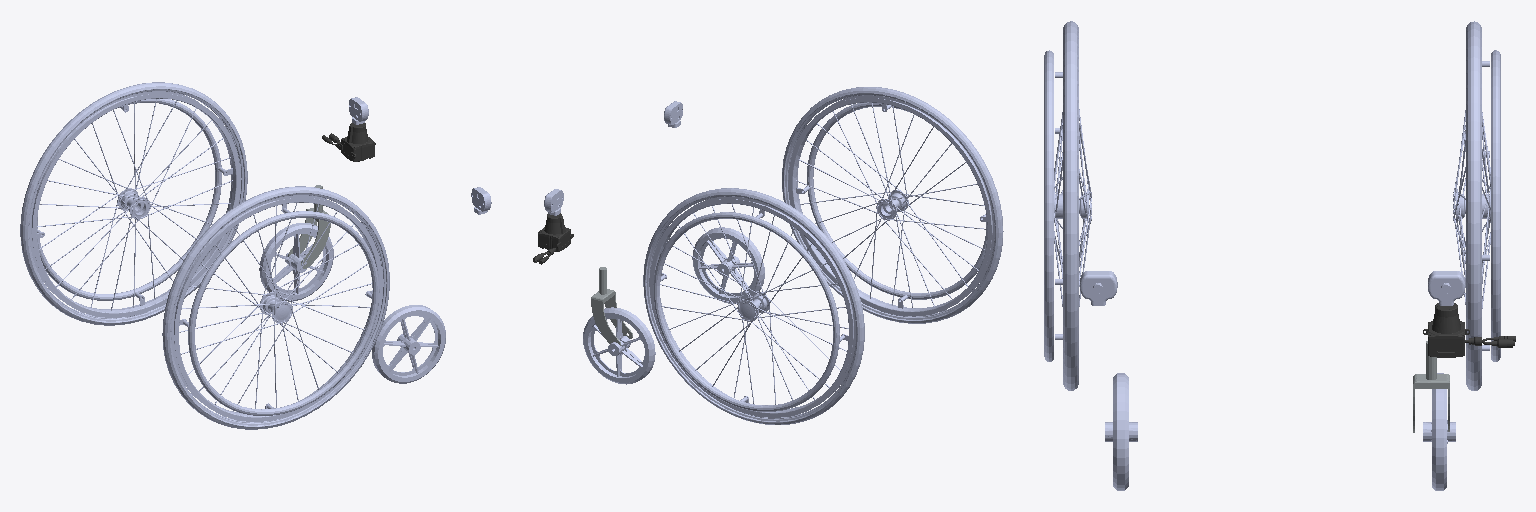
robot.urdf — wheelchair_urdf_files:
<?xml version="1.0" encoding="utf-8"?>
<!-- This URDF was automatically created by SolidWorks to URDF Exporter! Originally created by [author] ([email redacted]) 
     Commit Version: 1.6.0-4-g7f85cfe  Build Version: 1.6.7995.38578
     For more information, please see http://wiki.ros.org/sw_urdf_exporter -->
<robot
  name="wheelchair_urdf_files">

   <!-- Base footprint link -->
  <link name="base_footprint"/>
  <!-- Base link -->
  <link name="base_link">
  </link>
  <joint name="base_link_link_joint" type="fixed">
    <parent link="base_footprint"/>
    <child link="base_link"/>
    <origin xyz="0 0 0.3"/>
  </joint>

  <link
    name="wheelchair_frame">
    <inertial>
      <origin
        xyz="1.1817E-05 0.40859 0.020281"
        rpy="0 0 -1.570796" />
      <mass
        value="10.789" />
      <inertia
        ixx="0.27943"
        ixy="-0.00070217"
        ixz="0.00021066"
        iyy="0.19234"
        iyz="-0.057278"
        izz="0.17355" />
    </inertial>
    <visual>
      <origin
        xyz="0 0 0"
        rpy="0 0 -1.570796" />
      <geometry>
        <mesh
          filename="package://robot_simulator/robots/wheelchair/meshes/wheelchair_frame_base_link.STL" />
      </geometry>
      <material
        name="">
        <color
          rgba="0.79216 0.81961 0.93333 1" />
      </material>
    </visual>
    <collision>
      <origin
        xyz="0 0 0"
        rpy="0 0 -1.570796" />
      <geometry>
        <mesh
          filename="package://robot_simulator/robots/wheelchair/meshes/wheelchair_frame_base_link.STL" />
      </geometry>
    </collision>
  </link>
  <joint name="base_visual_joint" type="fixed">
    <parent link="base_link"/>
    <child link="wheelchair_frame"/>
    <origin xyz="0.225 0 -0.3"/>
  </joint>

  <link
    name="wheel_r_link">
    <inertial>
      <origin
        xyz="0.0441080860241803 8.88178419700125E-16 -1.11022302462516E-16"
        rpy="0 1.570796 0" />
      <mass
        value="1.11785636496393" />
      <inertia
        ixx="0.078372627877303"
        ixy="-1.77125185792784E-18"
        ixz="-1.12761256085879E-19"
        iyy="0.039239966752717"
        iyz="-9.06282829751847E-18"
        izz="0.0392393599948009" />
    </inertial>
    <visual>
      <origin
        xyz="0 0 0"
        rpy="0 1.570796 0" />
      <geometry>
        <mesh
          filename="package://robot_simulator/robots/wheelchair/meshes/wheel_r_link.STL" />
      </geometry>
      <material
        name="">
        <color
          rgba="0.792156862745098 0.819607843137255 0.933333333333333 1" />
      </material>
    </visual>
    <collision>
      <origin
        xyz="0 0 0"
        rpy="0 1.570796 0" />
      <geometry>
        <mesh
          filename="package://robot_simulator/robots/wheelchair/meshes/wheel_r_link.STL" />
      </geometry>
    </collision>
  </link>
  <joint
    name="wheel_r_joint"
    type="continuous">
    <origin
      xyz="0 -0.29262 0"
      rpy="-1.5707963267949 0 0" />
    <parent
      link="base_link" />
    <child
      link="wheel_r_link" />
    <axis
      xyz="0 0 1" />
  </joint>
  <link
    name="wheel_l_link">
    <inertial>
      <origin
        xyz="0.0441080860241805 6.93889390390723E-16 -3.88578058618805E-16"
        rpy="0 -1.570796 0" />
      <mass
        value="1.11785636496392" />
      <inertia
        ixx="0.0783726278773029"
        ixy="4.91793463251921E-18"
        ixz="-7.53745916717816E-18"
        iyy="0.0392399667527169"
        iyz="-5.20417042793042E-18"
        izz="0.0392393599948008" />
    </inertial>
    <visual>
      <origin
        xyz="0 0 0"
        rpy="0 -1.570796 0" />
      <geometry>
        <mesh
          filename="package://robot_simulator/robots/wheelchair/meshes/wheel_l_link.STL" />
      </geometry>
      <material
        name="">
        <color
          rgba="0.792156862745098 0.819607843137255 0.933333333333333 1" />
      </material>
    </visual>
    <collision>
      <origin
        xyz="0 0 0"
        rpy="0 1.5707963267949 0" />
      <geometry>
        <mesh
          filename="package://robot_simulator/robots/wheelchair/meshes/wheel_l_link.STL" />
      </geometry>
    </collision>
  </link>
  <joint
    name="wheel_l_joint"
    type="continuous">
    <origin
      xyz="0 0.29262 0"
      rpy="-1.5707963267949 0 0" />
    <parent
      link="base_link" />
    <child
      link="wheel_l_link" />
    <axis
      xyz="0 0 1" />
  </joint>
  <link
    name="caster_r_link">
    <inertial>
      <origin
        xyz="-3.12130959967405E-09 0.104209264665427 -0.00638474453380211"
        rpy="0 0 0" />
      <mass
        value="0.0641233529446961" />
      <inertia
        ixx="0.000140602918586523"
        ixy="-5.25202674672285E-12"
        ixz="-1.35152351145188E-11"
        iyy="4.09045485721611E-05"
        iyz="-3.06339546822628E-05"
        izz="0.000150905412643739" />
    </inertial>
    <visual>
      <origin
        xyz="0 0 0"
        rpy="0 0 0" />
      <geometry>
        <mesh
          filename="package://robot_simulator/robots/wheelchair/meshes/caster_r_link.STL" />
      </geometry>
      <material
        name="">
        <color
          rgba="0.63921568627451 0.666666666666667 0.67843137254902 1" />
      </material>
    </visual>
    <collision>
      <origin
        xyz="0 0 0"
        rpy="0 0 0" />
      <geometry>
        <mesh
          filename="package://robot_simulator/robots/wheelchair/meshes/caster_r_link.STL" />
      </geometry>
    </collision>
  </link>
  <joint
    name="caster_r_joint"
    type="continuous">
    <origin
      xyz="0.45 -0.258 -0.21775"
      rpy="1.5707963267949 0 1.5707963267949" />
    <parent
      link="base_link" />
    <child
      link="caster_r_link" />
    <axis
      xyz="0 0 1" />
  </joint>
  <link
    name="caster_wheel_r_link">
    <inertial>
      <origin
        xyz="3.68871599931708E-13 0 -2.77555756156289E-17"
        rpy="0 0 0" />
      <mass
        value="0.290948648858615" />
      <inertia
        ixx="0.00171792777524043"
        ixy="-3.23807165023355E-19"
        ixz="8.43924817788307E-20"
        iyy="0.000880037934920853"
        iyz="0"
        izz="0.000880037934920853" />
    </inertial>
    <visual>
      <origin
        xyz="0 0 0"
        rpy="0 0 0" />
      <geometry>
        <mesh
          filename="package://robot_simulator/robots/wheelchair/meshes/caster_wheel_r_link.STL" />
      </geometry>
      <material
        name="">
        <color
          rgba="0.796078431372549 0.823529411764706 0.937254901960784 1" />
      </material>
    </visual>
    <collision>
      <origin
        xyz="0 0 0"
        rpy="0 0 0" />
      <geometry>
        <mesh
          filename="package://robot_simulator/robots/wheelchair/meshes/caster_wheel_r_link.STL" />
      </geometry>
    </collision>
  </link>
  <joint
    name="caster_wheel_r_joint"
    type="continuous">
    <origin
      xyz="0.0127 0 -0.0508"
      rpy="-1.3026 0 0" />
    <parent
      link="caster_r_link" />
    <child
      link="caster_wheel_r_link" />
    <axis
      xyz="0 1 0" />
  </joint>
  <link
    name="caster_l_link">
    <inertial>
      <origin
        xyz="-3.12130948865175E-09 0.104209264665427 -0.00638474453380217"
        rpy="0 0 0" />
      <mass
        value="0.0641233529446964" />
      <inertia
        ixx="0.000140602918586524"
        ixy="-5.25202644245156E-12"
        ixz="-1.35152350658555E-11"
        iyy="4.09045485721617E-05"
        iyz="-3.06339546822628E-05"
        izz="0.00015090541264374" />
    </inertial>
    <visual>
      <origin
        xyz="0 0 0"
        rpy="0 0 0" />
      <geometry>
        <mesh
          filename="package://robot_simulator/robots/wheelchair/meshes/caster_l_link.STL" />
      </geometry>
      <material
        name="">
        <color
          rgba="0.63921568627451 0.666666666666667 0.67843137254902 1" />
      </material>
    </visual>
    <collision>
      <origin
        xyz="0 0 0"
        rpy="0 0 0" />
      <geometry>
        <mesh
          filename="package://robot_simulator/robots/wheelchair/meshes/caster_l_link.STL" />
      </geometry>
    </collision>
  </link>
  <joint
    name="caster_l_joint"
    type="continuous">
    <origin
      xyz="0.45 0.258 -0.21775"
      rpy="1.5707963267949 0 1.5707963267949" />
    <parent
      link="base_link" />
    <child
      link="caster_l_link" />
    <axis
      xyz="0 0 1" />
  </joint>
  <link
    name="caster_wheel_l_link">
    <inertial>
      <origin
        xyz="3.6892711108294E-13 2.77555756156289E-17 0"
        rpy="0 0 0" />
      <mass
        value="0.290948648858614" />
      <inertia
        ixx="0.00171792777524043"
        ixy="-6.31694569321117E-20"
        ixz="-4.59796098378092E-21"
        iyy="0.000880037934920852"
        iyz="7.31551485743025E-20"
        izz="0.000880037934920853" />
    </inertial>
    <visual>
      <origin
        xyz="0 0 0"
        rpy="0 0 0" />
      <geometry>
        <mesh
          filename="package://robot_simulator/robots/wheelchair/meshes/caster_wheel_l_link.STL" />
      </geometry>
      <material
        name="">
        <color
          rgba="0.796078431372549 0.823529411764706 0.937254901960784 1" />
      </material>
    </visual>
    <collision>
      <origin
        xyz="0 0 0"
        rpy="0 0 0" />
      <geometry>
        <mesh
          filename="package://robot_simulator/robots/wheelchair/meshes/caster_wheel_l_link.STL" />
      </geometry>
    </collision>
  </link>
  <joint
    name="caster_wheel_l_joint"
    type="continuous">
    <origin
      xyz="0.0127 0 -0.0508"
      rpy="0 0 0" />
    <parent
      link="caster_l_link" />
    <child
      link="caster_wheel_l_link" />
    <axis
      xyz="0 0 1" />
  </joint>

  <link name="base_scan"/>
  <joint
    name="base_scan_joint"
    type="fixed">
    <origin
      xyz="0.56908 0 0.0404"
      rpy="0 0 0" />
    <parent
      link="base_link" />
    <child
      link="base_scan" />
    <axis
      xyz="0 0 0" />
  </joint>

  <link
    name="lidar_r_link">
    <inertial>
      <origin
        xyz="0.00413164914455055 0.0155221181513021 0.00959210929655163"
        rpy="3.141592 0 -3.141592" />
      <mass
        value="0.0554197869782733" />
      <inertia
        ixx="2.47565352435023E-05"
        ixy="9.4643144062333E-08"
        ixz="3.54203416219165E-08"
        iyy="2.39394306809895E-05"
        iyz="-4.9424150019629E-08"
        izz="3.51059139511368E-05" />
    </inertial>
    <visual>
      <origin
        xyz="0 0 0"
        rpy="3.141592 0 -3.141592" />
      <geometry>
        <mesh
          filename="package://robot_simulator/robots/wheelchair/meshes/lidar_r_link.STL" />
      </geometry>
      <material
        name="">
        <color
          rgba="0.294117647058824 0.294117647058824 0.294117647058824 1" />
      </material>
    </visual>
    <collision>
      <origin
        xyz="0 0 0"
        rpy="3.141592 0 -3.141592" />
      <geometry>
        <mesh
          filename="package://robot_simulator/robots/wheelchair/meshes/lidar_r_link.STL" />
      </geometry>
    </collision>
  </link>
  <joint
    name="lidar_r_joint"
    type="fixed">
    <origin
      xyz="0 -0.28197 0"
      rpy="0 0 0" />
    <parent
      link="base_scan" />
    <child
      link="lidar_r_link" />
    <axis
      xyz="0 0 0" />
  </joint>
  <link
    name="lidar_l_link">
    <inertial>
      <origin
        xyz="0.00413164915732184 0.0155221181335719 0.00959210929427334"
        rpy="3.141592 0 -3.141592" />
      <mass
        value="0.0554197870193369" />
      <inertia
        ixx="2.47565352589425E-05"
        ixy="9.4643157361143E-08"
        ixz="3.54203516513508E-08"
        iyy="2.39394307035444E-05"
        iyz="-4.94241572710647E-08"
        izz="3.51059139791084E-05" />
    </inertial>
    <visual>
      <origin
        xyz="0 0 0"
        rpy="3.141592 0 -3.141592" />
      <geometry>
        <mesh
          filename="package://robot_simulator/robots/wheelchair/meshes/lidar_l_link.STL" />
      </geometry>
      <material
        name="">
        <color
          rgba="0.294117647058824 0.294117647058824 0.294117647058824 1" />
      </material>
    </visual>
    <collision>
      <origin
        xyz="0 0 0"
        rpy="3.141592 0 -3.141592" />
      <geometry>
        <mesh
          filename="package://robot_simulator/robots/wheelchair/meshes/lidar_l_link.STL" />
      </geometry>
    </collision>
  </link>
  <joint
    name="lidar_l_joint"
    type="fixed">
    <origin
      xyz="0 0.28197 0"
      rpy="0 0 0" />
    <parent
      link="base_scan" />
    <child
      link="lidar_l_link" />
    <axis
      xyz="0 0 0" />
  </joint>


  <link
    name="camera_r_link">
    <inertial>
      <origin
        xyz="0.000606179966556375 -0.00495007615976506 -0.00412138511006638"
        rpy="0 0 1.570796" />
      <mass
        value="0.0370266425386281" />
      <inertia
        ixx="8.87930504750657E-06"
        ixy="-1.64368854855412E-09"
        ixz="1.29020009778031E-09"
        iyy="1.8774304350479E-05"
        iyz="6.32850954173267E-07"
        izz="1.15826928491196E-05" />
    </inertial>
    <visual>
      <origin
        xyz="0 0 0"
        rpy="0 0 1.570796" />
      <geometry>
        <mesh
          filename="package://robot_simulator/robots/wheelchair/meshes/camera_r_link.STL" />
      </geometry>
      <material
        name="">
        <color
          rgba="0.792156862745098 0.819607843137255 0.933333333333333 1" />
      </material>
    </visual>
    <collision>
      <origin
        xyz="0 0 0"
        rpy="0 0 1.570796" />
      <geometry>
        <mesh
          filename="package://robot_simulator/robots/wheelchair/meshes/camera_r_link.STL" />
      </geometry>
    </collision>
  </link>
  <joint
    name="camera_r_joint"
    type="fixed">
    <origin
      xyz="0.56668 -0.28265 0.1248"
      rpy="0 0 0" />
    <parent
      link="base_link" />
    <child
      link="camera_r_link" />
    <axis
      xyz="0 0 0" />
  </joint>

<!-- SAVE -->
  <link name="camera_r_optical_link"/>
  <joint
    name="camera_r_optical_joint"
    type="fixed">
    <origin
      xyz="0.0 0.0 0.0"
      rpy="-1.570796 0 -1.570796" />
    <parent
      link="camera_r_link" />
    <child
      link="camera_r_optical_link" />
    <axis
      xyz="0 0 0" />
  </joint> 

  <link
    name="camera_l_link">
    <inertial>
      <origin
        xyz="0.00060618 -0.0049501 -0.0041214"
        rpy="0 0 1.570796" />
      <mass
        value="0.037027" />
      <inertia
        ixx="8.8793E-06"
        ixy="-1.6437E-09"
        ixz="1.2902E-09"
        iyy="1.8774E-05"
        iyz="6.3285E-07"
        izz="1.1583E-05" />
    </inertial>
    <visual>
      <origin
        xyz="0 0 0"
        rpy="0 0 1.570796" />
      <geometry>
        <mesh
          filename="package://robot_simulator/robots/wheelchair/meshes/camera_l_link.STL" />
      </geometry>
      <material
        name="">
        <color
          rgba="0.79216 0.81961 0.93333 1" />
      </material>
    </visual>
    <collision>
      <origin
        xyz="0 0 0"
        rpy="0 0 1.570796" />
      <geometry>
        <mesh
          filename="package://robot_simulator/robots/wheelchair/meshes/camera_l_link.STL" />
      </geometry>
    </collision>
  </link>
  <joint
    name="camera_l_joint"
    type="fixed">
    <origin
      xyz="0.56668 0.28135 0.1248"
      rpy="0.0 0 0" />
    <parent
      link="base_link" />
    <child
      link="camera_l_link" />
    <axis
      xyz="0 0 0" />
  </joint>

  <!-- SAVE -->
  <link name="camera_l_optical_link"/>
  <joint
    name="camera_l_optical_joint"
    type="fixed">
    <origin
      xyz="0.0 0.0 0.0"
      rpy="-1.570796 0 -1.570796" />
    <parent
      link="camera_l_link" />
    <child
      link="camera_l_optical_link" />
    <axis
      xyz="0 0 0" />
  </joint> 
</robot>

--- Render facts (derived) ---
3 views of the same robot in one strip: view 1: azimuth 30°, elevation 25°; view 2: azimuth 150°, elevation 25°; view 3: azimuth 270°, elevation 25° (orthographic).
Robot: wheelchair_urdf_files — 16 links, 15 joints (6 continuous, 9 fixed); root link base_footprint; default pose: every joint at zero.
Links seen in each view (by area): view 1: wheel_r_link, wheel_l_link, caster_wheel_r_link, caster_wheel_l_link, lidar_l_link, caster_l_link; view 2: wheel_l_link, wheel_r_link, caster_wheel_l_link, caster_wheel_r_link, caster_l_link, lidar_l_link; view 3: wheel_r_link, wheel_l_link, lidar_l_link, caster_wheel_r_link, caster_wheel_l_link, camera_r_link, camera_l_link, caster_l_link.
Boxes of the visible links, x1,y1,x2,y2 form: wheel_r_link: (162, 186, 389, 429); wheel_l_link: (20, 82, 247, 325); caster_wheel_r_link: (372, 305, 445, 383); caster_wheel_l_link: (259, 223, 333, 301); lidar_l_link: (322, 123, 375, 161); caster_l_link: (288, 185, 330, 268); wheel_l_link: (643, 188, 864, 424); wheel_r_link: (782, 87, 1003, 323); caster_wheel_l_link: (583, 307, 655, 384); caster_wheel_r_link: (692, 227, 764, 303); caster_l_link: (591, 267, 632, 345); lidar_l_link: (533, 213, 573, 264); wheel_r_link: (1044, 21, 1091, 390); wheel_l_link: (1453, 21, 1500, 390); lidar_l_link: (1423, 303, 1515, 357); caster_wheel_r_link: (1105, 373, 1137, 490); caster_wheel_l_link: (1423, 373, 1455, 490); camera_r_link: (1080, 271, 1117, 305); camera_l_link: (1428, 271, 1465, 305); caster_l_link: (1413, 341, 1449, 432).
Size in the robot's own frame: 0.8992 by 0.7634 by 0.6127 metres.
Meshes: 11 distinct files referenced, 8 mesh visuals loaded (8 binary STL); not drawn: 3 (file found but could not be loaded).
